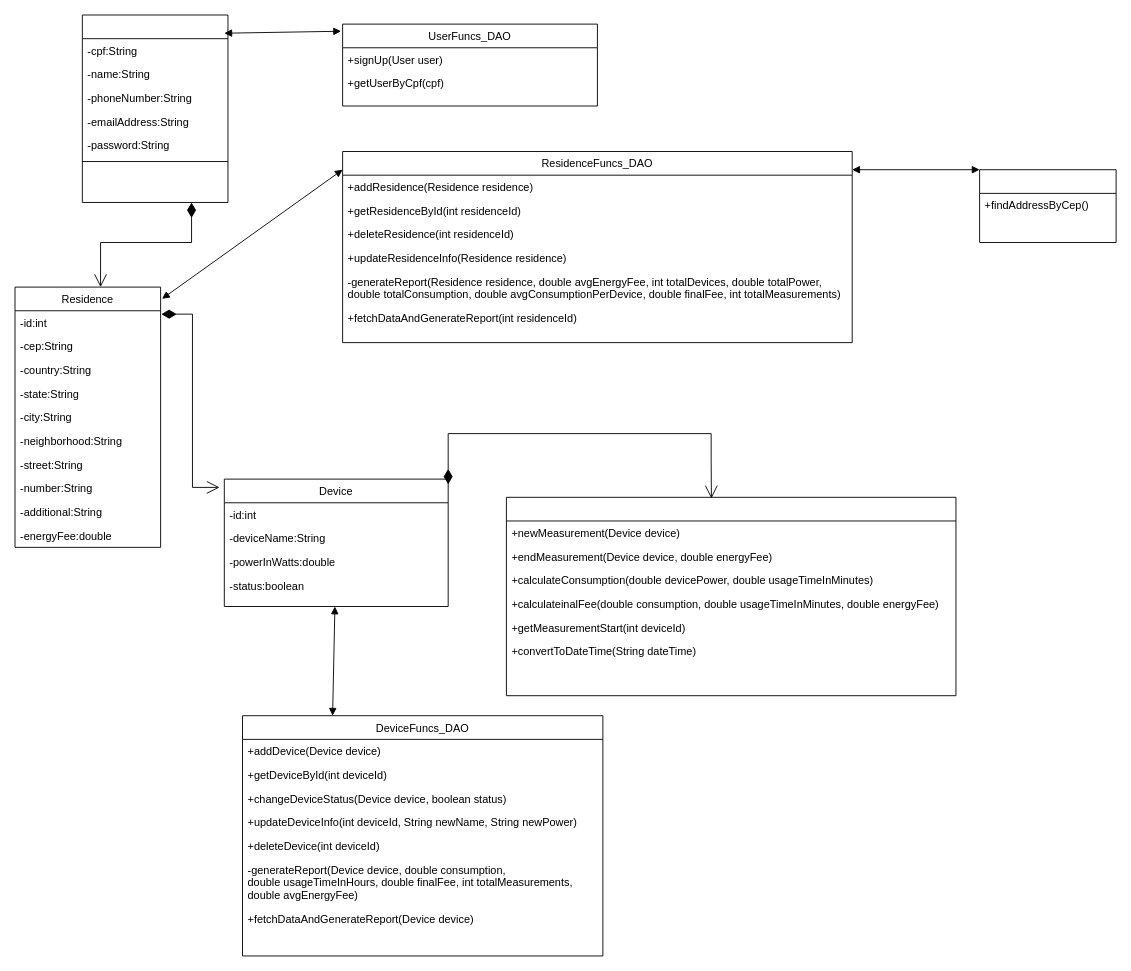
This 1131x971 diagram has some shape labels left out. Each missing label, with the box of its shape:
FindAddress_DAO: (979, 169, 1116, 243)
MeasurementFuncs_DAO: (506, 496, 956, 696)
User: (81, 14, 228, 202)
